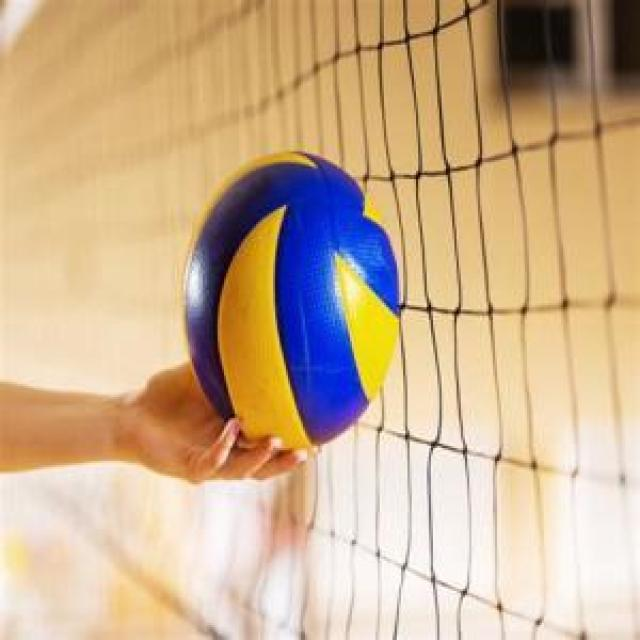volleyball: (175, 148, 401, 458)
